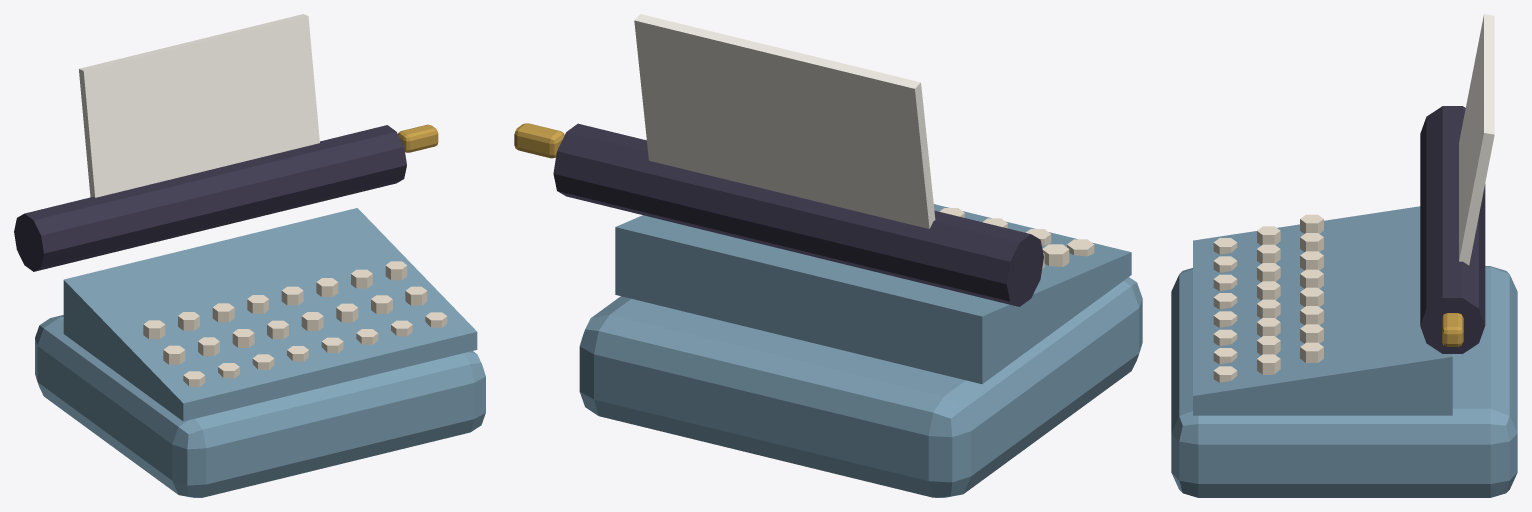
Rendered from typewriter.glb.
3 views of the same model, side by side, from view 1: azimuth 30°, elevation 25°; view 2: azimuth 150°, elevation 25°; view 3: azimuth 270°, elevation 25° (orthographic). The views are drawn at different scales.
Parts seen in each view (by area): view 1: typewriter; view 2: typewriter; view 3: typewriter.
Boxes of the visible parts, x1=… form: typewriter: x1=14, y1=14, x2=485, y2=497; typewriter: x1=514, y1=14, x2=1142, y2=497; typewriter: x1=1171, y1=14, x2=1517, y2=497.
Bounding box in the file's own units: 0.47 × 0.3597 × 0.32.
